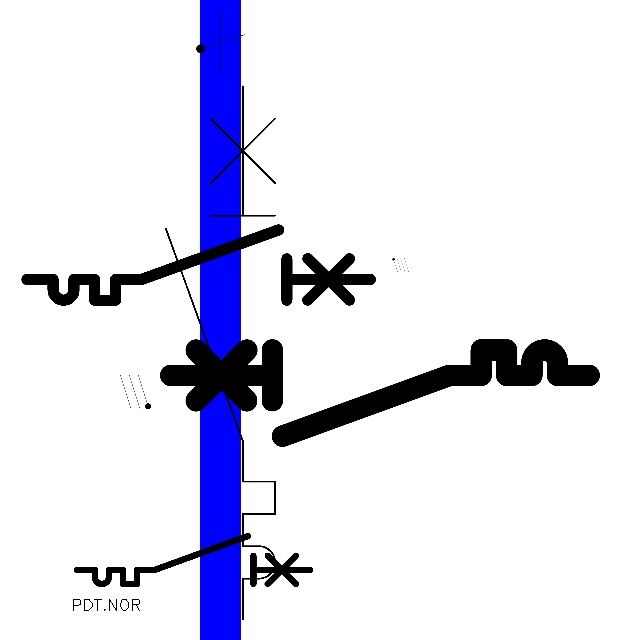interruptor_termomagnetico: (152, 72, 289, 632), (159, 339, 599, 446), (18, 221, 379, 309), (71, 530, 316, 590)
